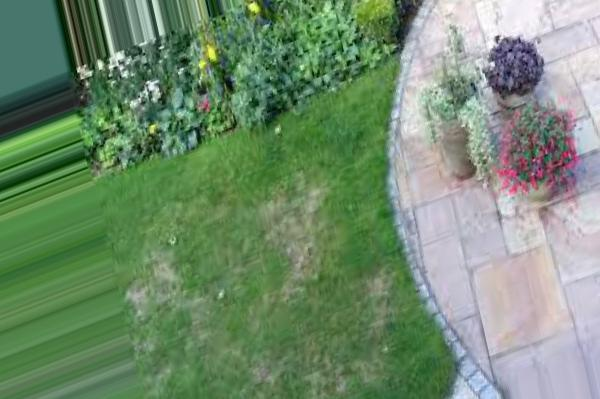patch: (250, 193, 327, 279), (134, 255, 189, 321), (352, 276, 391, 357), (251, 362, 282, 383)
